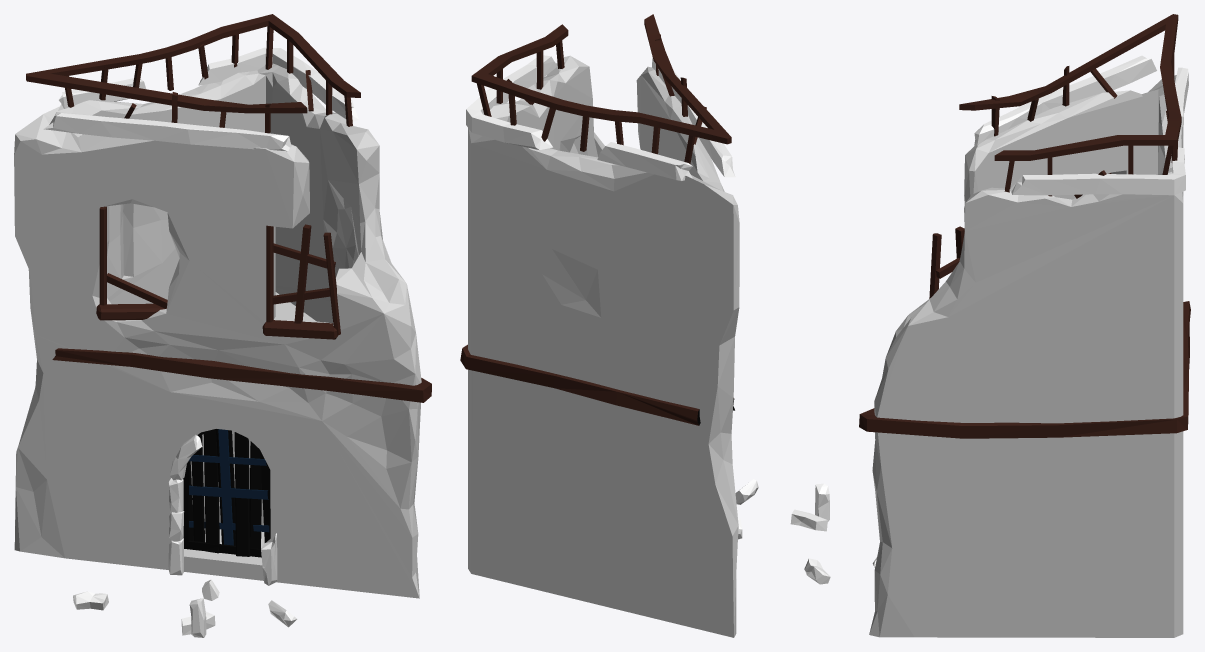
File: civilian_house_ruin_d.FBX
3 views of the same model, side by side, from view 1: azimuth 30°, elevation 25°; view 2: azimuth 150°, elevation 25°; view 3: azimuth 270°, elevation 25° (orthographic). The views are drawn at different scales.
Parts seen in each view (by area): view 1: civilian_house_ruin_d; view 2: civilian_house_ruin_d; view 3: civilian_house_ruin_d.
Boxes of the visible parts, bbox=[...] form: civilian_house_ruin_d: bbox=[14, 14, 431, 637]; civilian_house_ruin_d: bbox=[460, 14, 830, 637]; civilian_house_ruin_d: bbox=[859, 14, 1190, 637].
Bounding box in the file's own units: 541 × 876 × 531.
